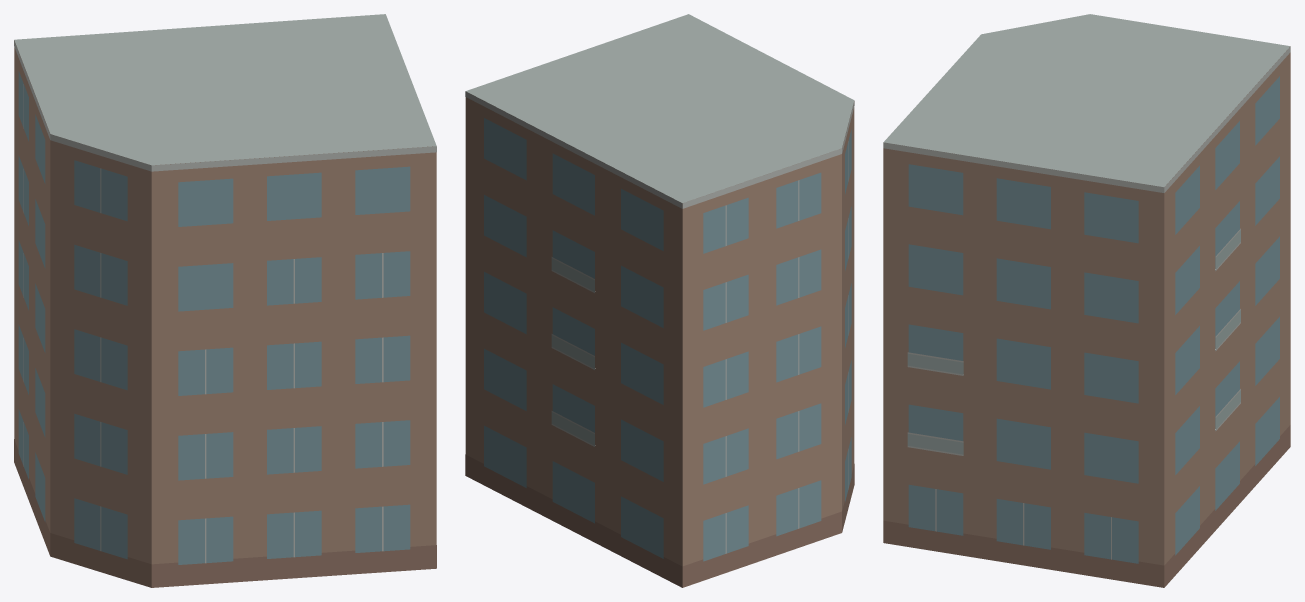
Rendered from survey-upis-32899955.glb.
3 views of the same model, side by side, from view 1: azimuth 30°, elevation 25°; view 2: azimuth 150°, elevation 25°; view 3: azimuth 270°, elevation 25° (orthographic). The views are drawn at different scales.
Visible parts, largest first — view 1: survey-upis-32899955.tmp; view 2: survey-upis-32899955.tmp; view 3: survey-upis-32899955.tmp.
Part boxes in pixels (<box>): survey-upis-32899955.tmp: <box>14,14,436,587</box>; survey-upis-32899955.tmp: <box>465,14,854,587</box>; survey-upis-32899955.tmp: <box>883,14,1290,587</box>.
Bounding box in the file's own units: 15.31 × 16.5 × 15.21.
